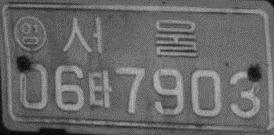0: (190, 69, 222, 117), (19, 61, 48, 110)
3: (228, 69, 260, 118)
6: (54, 64, 85, 112)
7: (114, 66, 145, 114)
9: (152, 67, 184, 115)
서울_D: (61, 16, 199, 57)
영: (12, 14, 47, 52)
타: (87, 69, 113, 108)
